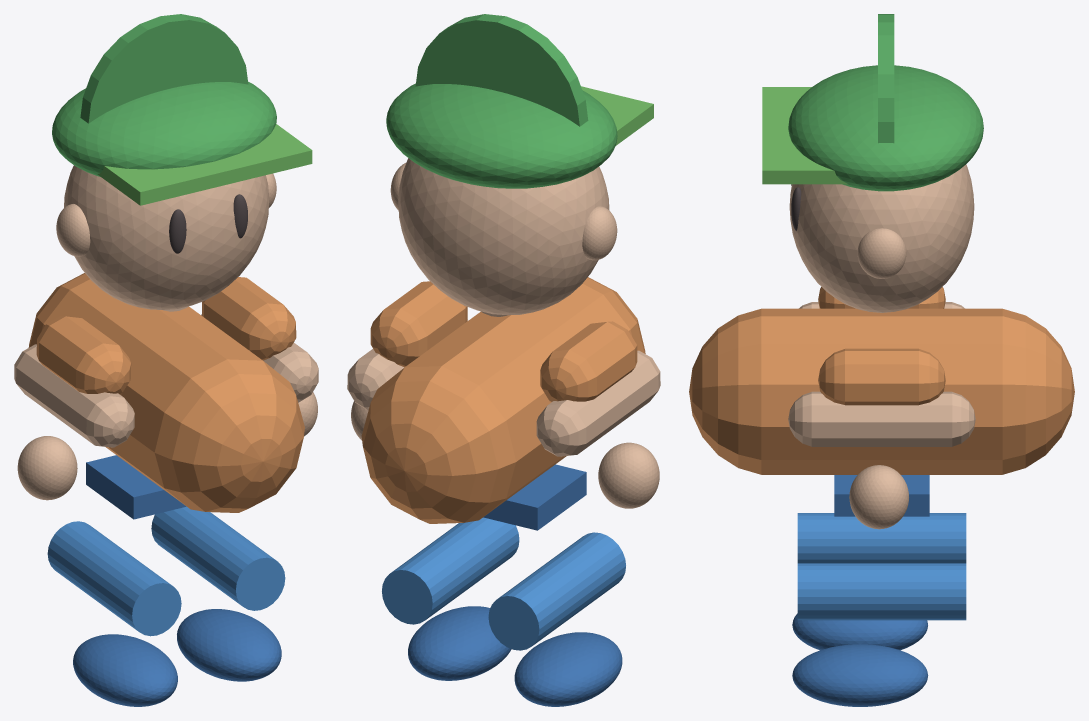
Rendered from character.glb.
The picture shows the model from 3 angles, left to right: view 1: azimuth 30°, elevation 25°; view 2: azimuth 150°, elevation 25°; view 3: azimuth 270°, elevation 25°; orthographic projection. The views are drawn at different scales.
Visible parts, largest first — view 1: shirt_torso, head, cap_crown, cap_top, leg_left, leg_right, cap_brim, shoe_right, shoe_left, arm_left, sleeve_left, sleeve_right (+7 smaller); view 2: shirt_torso, head, cap_crown, cap_top, leg_left, leg_right, shoe_left, arm_left, sleeve_left, shoe_right, sleeve_right, waistband (+4 smaller); view 3: shirt_torso, cap_crown, head, leg_right, arm_right, leg_left, shoe_right, sleeve_right, cap_brim, shoe_left, hand_right, cap_top (+3 smaller).
Part boxes in pixels (<box>): shirt_torso: <box>28,273,304,512</box>; head: <box>64,165,269,309</box>; cap_crown: <box>52,81,276,176</box>; cap_top: <box>80,14,248,123</box>; leg_left: <box>47,521,181,636</box>; leg_right: <box>151,506,285,610</box>; cap_brim: <box>97,124,312,205</box>; shoe_right: <box>177,609,281,681</box>; shoe_left: <box>73,634,177,706</box>; arm_left: <box>14,344,134,447</box>; sleeve_left: <box>36,316,131,394</box>; sleeve_right: <box>202,277,296,360</box>; shirt_torso: <box>361,277,645,523</box>; head: <box>398,158,609,315</box>; cap_crown: <box>386,83,617,188</box>; cap_top: <box>415,14,588,126</box>; leg_left: <box>488,532,625,650</box>; leg_right: <box>382,517,519,624</box>; shoe_left: <box>514,632,622,706</box>; arm_left: <box>536,350,660,456</box>; sleeve_left: <box>540,321,637,402</box>; shoe_right: <box>408,606,511,680</box>; sleeve_right: <box>370,281,467,367</box>; waistband: <box>483,464,586,530</box>; shirt_torso: <box>689,308,1074,474</box>; cap_crown: <box>788,65,983,191</box>; head: <box>789,164,974,312</box>; leg_right: <box>797,563,966,620</box>; arm_right: <box>788,391,975,446</box>; leg_left: <box>797,513,966,563</box>; shoe_right: <box>792,644,928,706</box>; sleeve_right: <box>818,348,945,405</box>; cap_brim: <box>762,87,847,184</box>; shoe_left: <box>792,613,927,650</box>; hand_right: <box>849,465,908,529</box>; cap_top: <box>878,14,894,143</box>.
Size of the model in its own units: 1.24 by 2.65 by 1.42.
